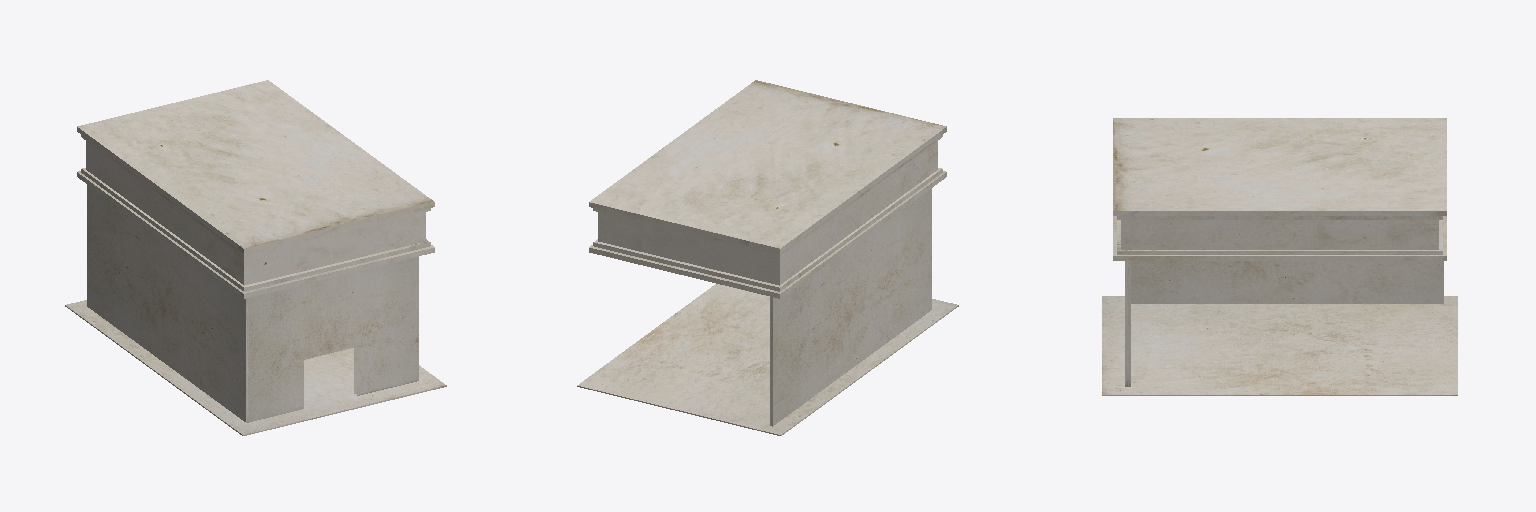
The picture shows the model from 3 angles: view 1: azimuth 30°, elevation 25°; view 2: azimuth 150°, elevation 25°; view 3: azimuth 270°, elevation 25°; orthographic projection.
Parts seen in each view (by area): view 1: polySurface490, pCube17, pCube15, polySurface66 polySurface17; view 2: polySurface490, polySurface66 polySurface17, pCube17; view 3: polySurface490, polySurface66 polySurface17, pCube17, pCube15.
Part boxes in pixels (x1,y1,x2,y2): polySurface490: (77,80,434,298); pCube17: (87,185,247,422); pCube15: (248,256,418,422); polySurface66 polySurface17: (65,300,446,435); polySurface490: (589,80,946,298); polySurface66 polySurface17: (577,284,958,435); pCube17: (770,188,931,426); polySurface490: (1113,118,1446,260); polySurface66 polySurface17: (1102,296,1457,395); pCube17: (1131,261,1443,303); pCube15: (1125,261,1130,386).
Size of the model in its own units: 4.35 by 3.74 by 6.58.
1 materials, 1 textured.